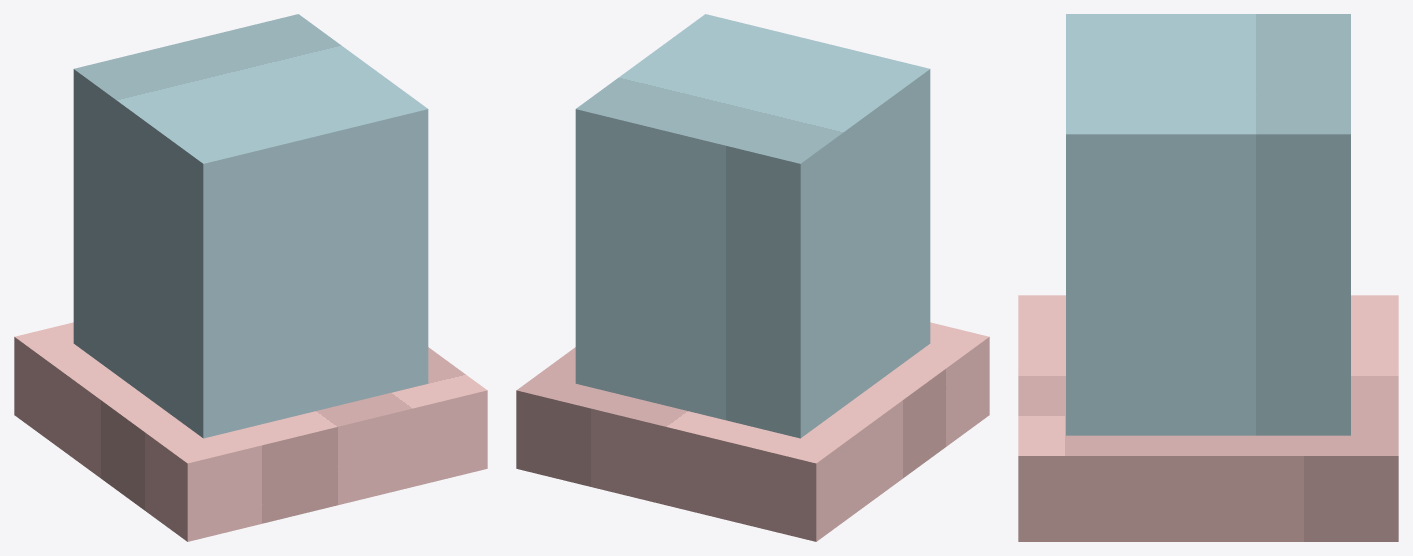
Rendered from bell.gltf.
The picture shows the model from 3 angles, left to right: view 1: azimuth 30°, elevation 25°; view 2: azimuth 150°, elevation 25°; view 3: azimuth 270°, elevation 25°; orthographic projection. The views are drawn at different scales.
Visible parts, largest first — view 1: bea59940-2cbd-0e1b-0b6c-5c29afc16729, 5050809e-8f06-7330-d327-d4415d0c078e; view 2: bea59940-2cbd-0e1b-0b6c-5c29afc16729, 5050809e-8f06-7330-d327-d4415d0c078e; view 3: bea59940-2cbd-0e1b-0b6c-5c29afc16729, 5050809e-8f06-7330-d327-d4415d0c078e.
Part boxes in pixels (<box>): bea59940-2cbd-0e1b-0b6c-5c29afc16729: <box>73,14,428,438</box>; 5050809e-8f06-7330-d327-d4415d0c078e: <box>14,322,487,541</box>; bea59940-2cbd-0e1b-0b6c-5c29afc16729: <box>575,14,930,438</box>; 5050809e-8f06-7330-d327-d4415d0c078e: <box>516,322,989,541</box>; bea59940-2cbd-0e1b-0b6c-5c29afc16729: <box>1066,14,1350,435</box>; 5050809e-8f06-7330-d327-d4415d0c078e: <box>1018,295,1398,541</box>.
Size of the model in its own units: 0.5 by 0.5625 by 0.5.
Materials: 2 (2 with a texture image).
